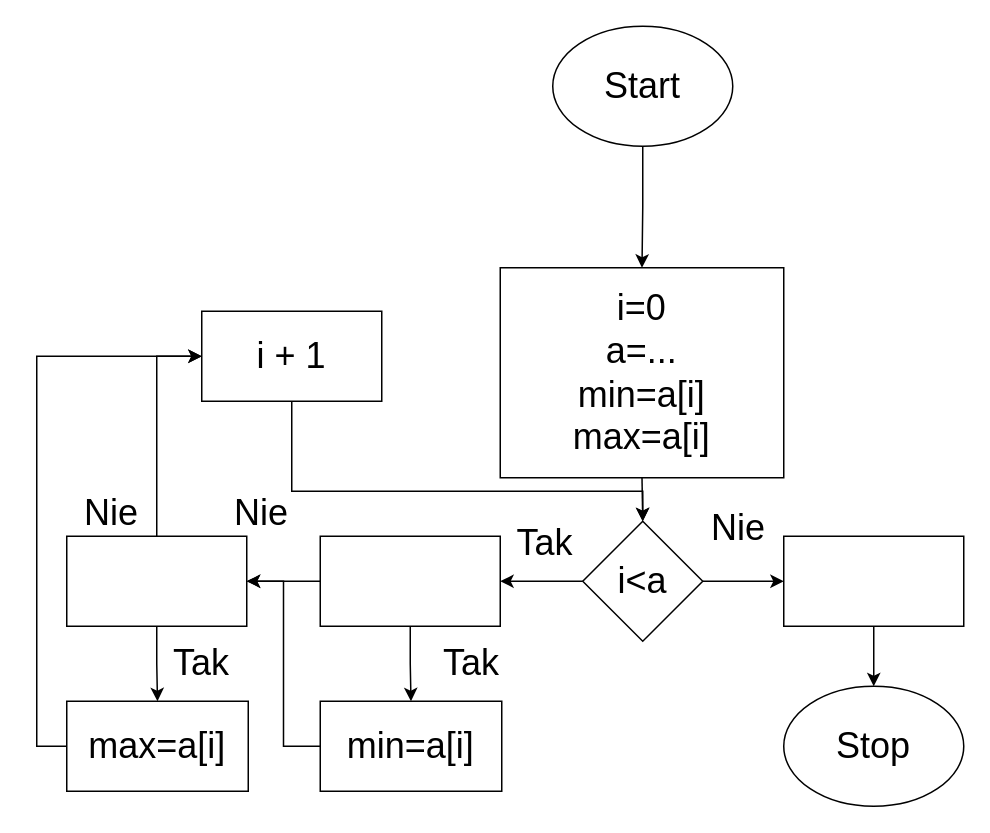
This 990x833 diagram has some shape labels left out. Each missing label, with the centre of its shape:
max<a[i]: pixel 156 580
min=a[i] max=a[i]: pixel 873 580
min>a[i]: pixel 409 580
